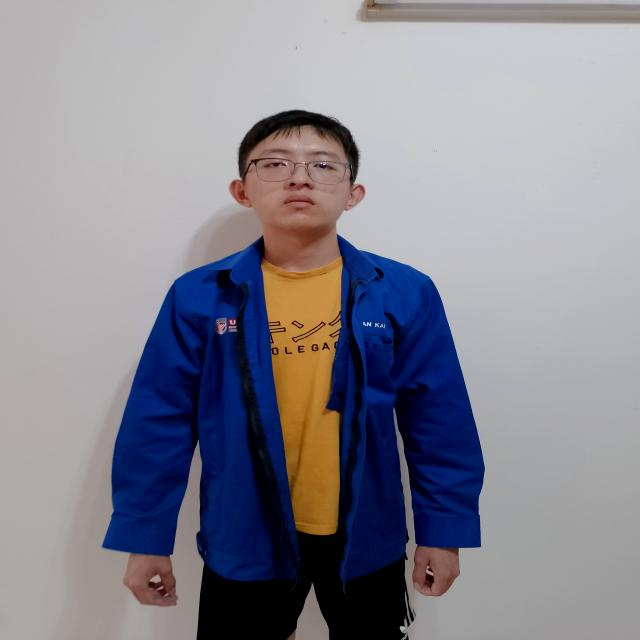person_with_labcoat: (104, 111, 484, 640)
